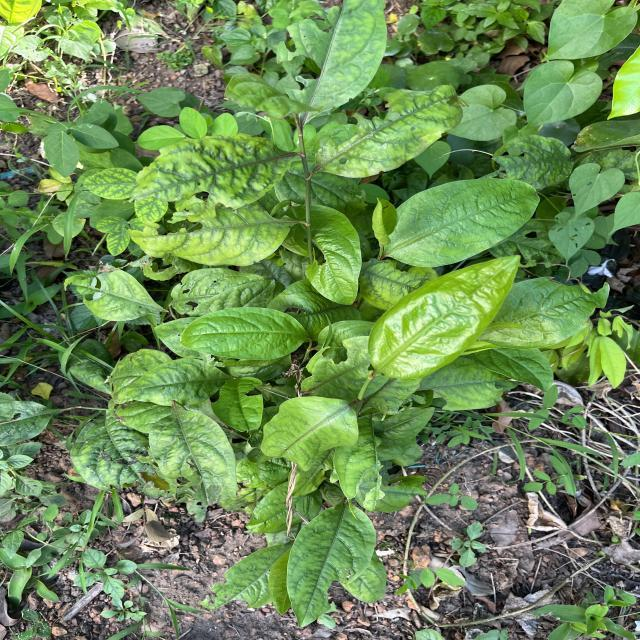Plumbago indica: (362, 252, 526, 382), (308, 81, 464, 179), (382, 177, 542, 269), (138, 132, 292, 218), (286, 498, 380, 629), (178, 306, 308, 360)
